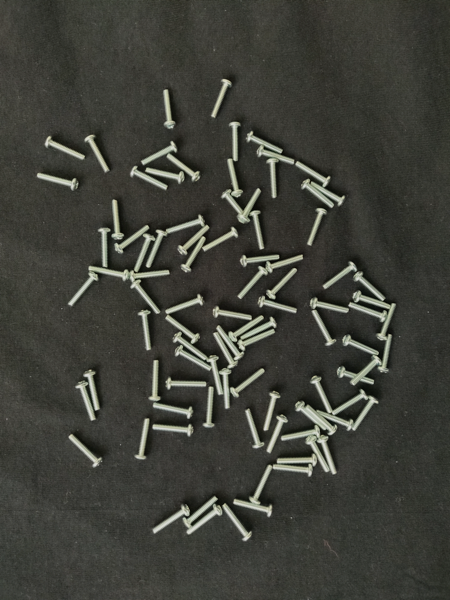longscrew: (221, 501, 254, 543), (151, 501, 191, 535), (182, 495, 220, 530), (67, 434, 104, 469), (44, 134, 87, 163), (67, 271, 100, 308), (186, 504, 224, 536), (230, 367, 267, 399), (164, 314, 202, 345), (131, 279, 162, 317), (173, 345, 213, 374), (305, 404, 340, 437), (237, 265, 270, 300), (129, 165, 170, 193), (114, 224, 151, 255), (172, 332, 210, 362), (84, 134, 112, 174), (220, 189, 252, 224), (249, 463, 275, 506), (215, 325, 246, 361), (166, 152, 202, 183), (322, 260, 359, 290), (350, 354, 382, 388), (354, 271, 388, 303), (300, 179, 336, 209), (229, 314, 266, 343), (311, 310, 339, 348), (240, 314, 278, 342), (202, 226, 240, 254), (267, 267, 299, 300), (178, 224, 211, 256), (295, 401, 329, 432), (310, 374, 335, 416), (352, 395, 380, 432), (332, 389, 369, 417), (295, 161, 333, 188), (140, 140, 178, 167), (213, 331, 239, 370), (310, 181, 347, 208), (266, 413, 289, 456), (75, 380, 98, 423), (181, 236, 207, 274), (342, 333, 381, 358), (244, 408, 267, 450), (210, 78, 233, 120), (237, 188, 263, 225), (348, 300, 388, 324), (245, 130, 285, 154), (306, 436, 331, 474), (317, 434, 339, 477), (237, 329, 278, 352), (165, 292, 206, 315), (145, 229, 168, 270), (256, 144, 297, 167), (316, 408, 355, 432), (134, 232, 156, 274), (36, 171, 80, 192), (265, 253, 306, 275), (165, 214, 206, 236), (233, 498, 275, 519), (337, 365, 377, 387), (377, 302, 399, 342), (83, 369, 103, 412), (307, 208, 328, 248), (354, 290, 392, 312), (310, 296, 351, 316), (258, 295, 299, 315), (262, 389, 281, 432), (152, 401, 195, 420), (87, 264, 132, 282), (134, 417, 152, 461), (145, 166, 186, 185), (281, 425, 323, 443), (207, 355, 225, 397), (249, 210, 267, 251), (226, 158, 244, 199), (378, 332, 395, 375), (152, 422, 195, 439), (136, 309, 153, 352), (129, 268, 172, 285), (212, 306, 254, 322), (147, 359, 162, 402), (162, 89, 177, 131), (202, 386, 216, 430), (273, 463, 314, 478), (111, 198, 125, 241), (266, 157, 280, 200), (98, 226, 112, 268), (228, 121, 242, 163), (240, 254, 281, 268), (220, 367, 233, 411), (165, 377, 209, 390), (277, 454, 318, 467)
